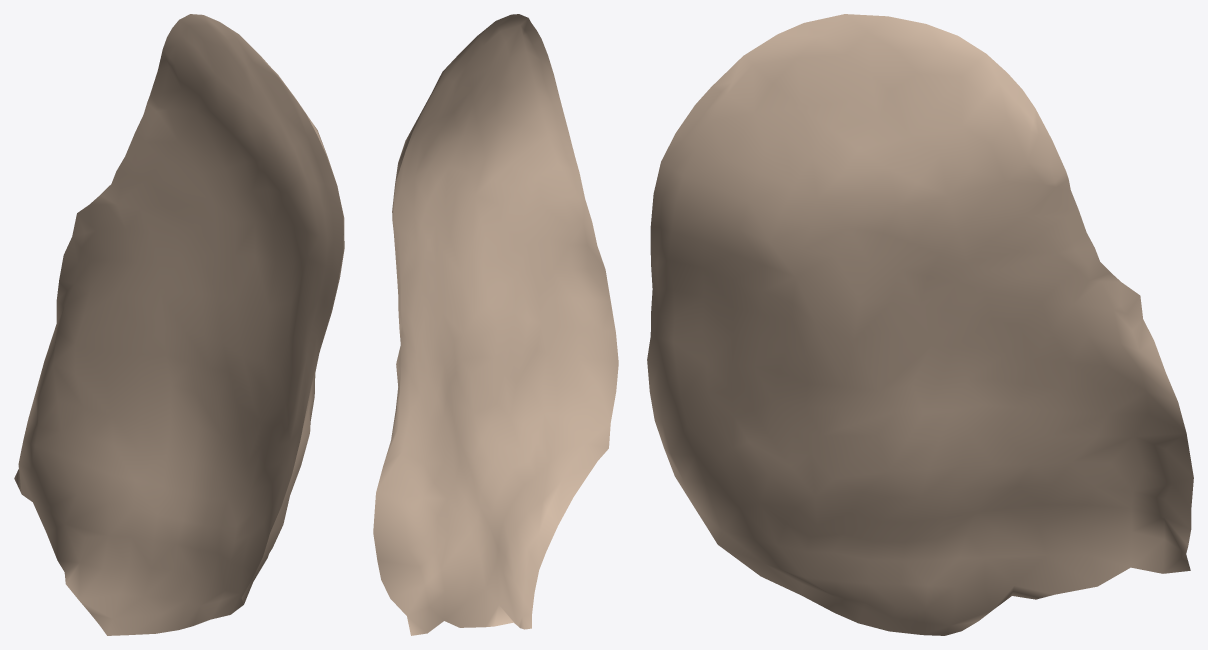
3 views of the same model, side by side, from view 1: azimuth 30°, elevation 25°; view 2: azimuth 150°, elevation 25°; view 3: azimuth 270°, elevation 25° (orthographic). The views are drawn at different scales.
Visible parts, largest first — view 1: 左侧颞筋膜浅层; view 2: 左侧颞筋膜浅层; view 3: 左侧颞筋膜浅层.
Boxes of the visible parts, left/top/right/bottom form: 左侧颞筋膜浅层: left=14, top=14, right=344, bottom=635; 左侧颞筋膜浅层: left=373, top=14, right=618, bottom=635; 左侧颞筋膜浅层: left=647, top=14, right=1193, bottom=635.
Bounding box in the file's own units: 0.0419 × 0.1677 × 0.1245.
